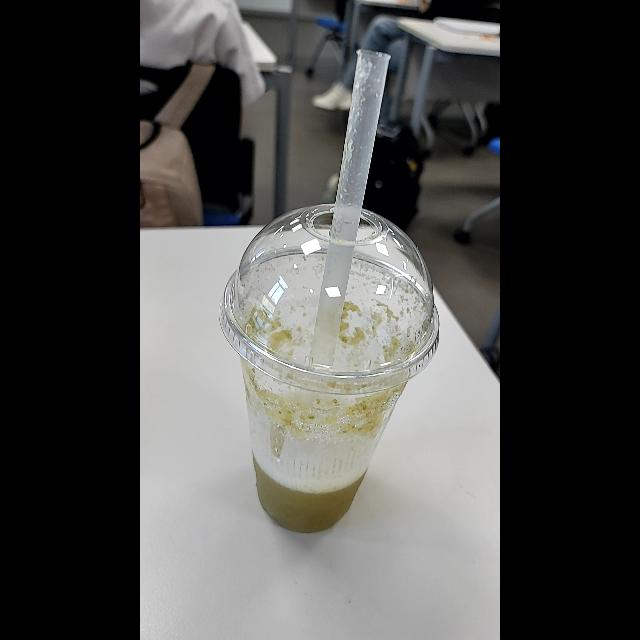plastic_cup: (214, 194, 442, 536)
plastic_cup_lid: (218, 202, 450, 390)
straw: (308, 45, 397, 372)
